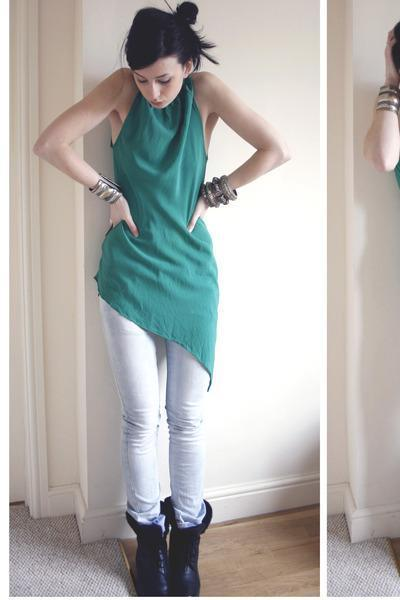dress: (94, 84, 218, 371)
pants: (93, 304, 213, 531)
shoe: (130, 496, 211, 596)
